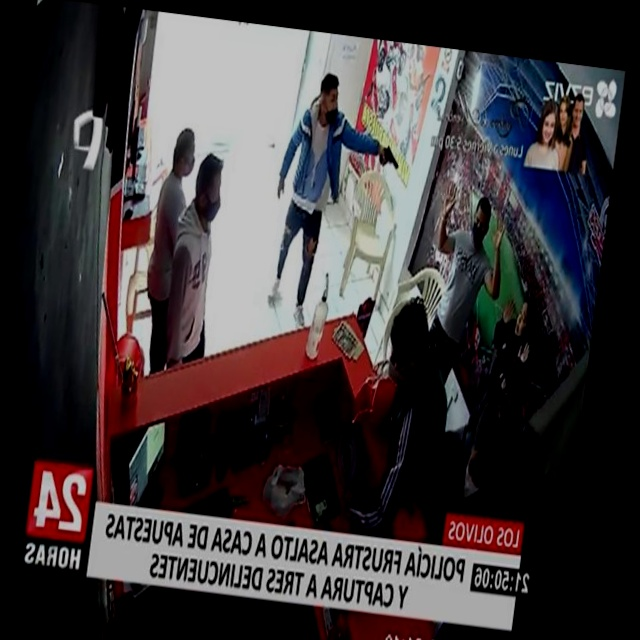gun: (371, 131, 411, 183)
